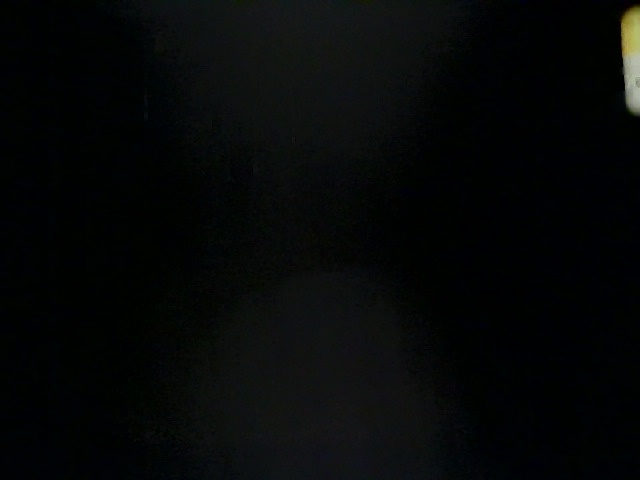YHLJ: (230, 87, 516, 224)
